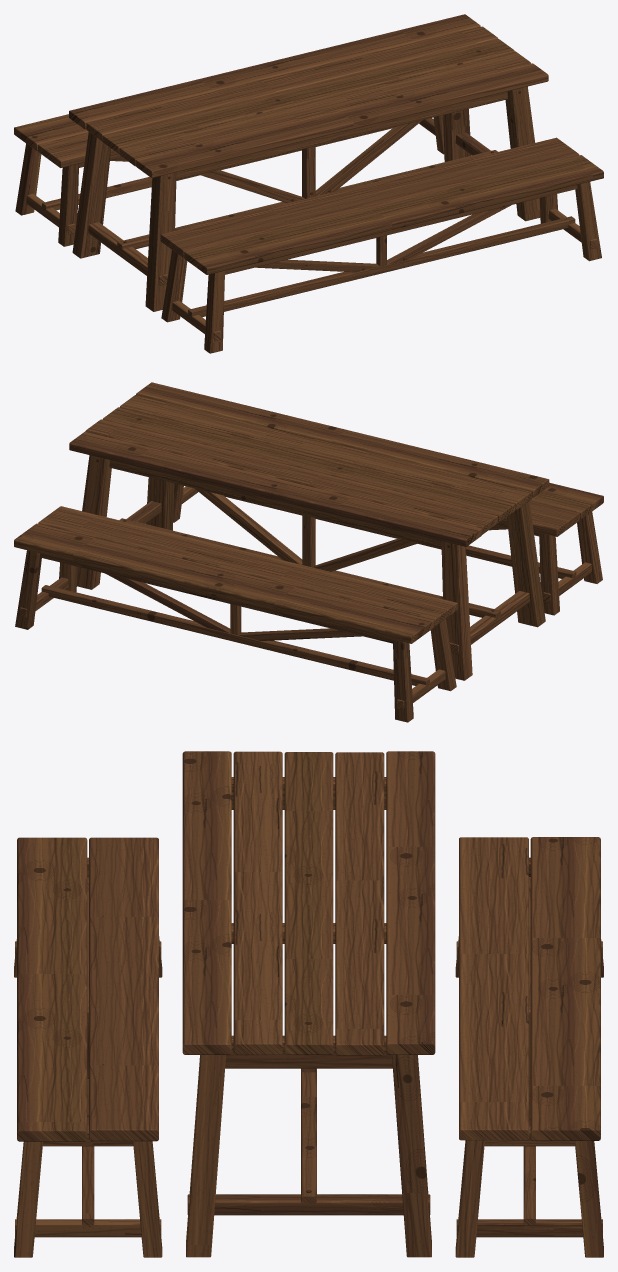
The model's file is Ban_dai_ghe_bang.glb.
3 views of the same model, one above another, from view 1: azimuth 30°, elevation 25°; view 2: azimuth 150°, elevation 25°; view 3: azimuth 270°, elevation 25° (orthographic). The views are drawn at different scales.
Visible parts, largest first — view 1: Go_oak (×3); view 2: Go_oak (×3); view 3: Go_oak (×3).
Part boxes in pixels (box(x1,y1,x2,y2)): Go_oak (×3): box(14, 14, 603, 353); Go_oak (×3): box(14, 382, 603, 722); Go_oak (×3): box(14, 751, 603, 1257).
Size of the model in its own units: 2.2 by 0.7531 by 1.87.
Materials: 2 (2 with a texture image).
